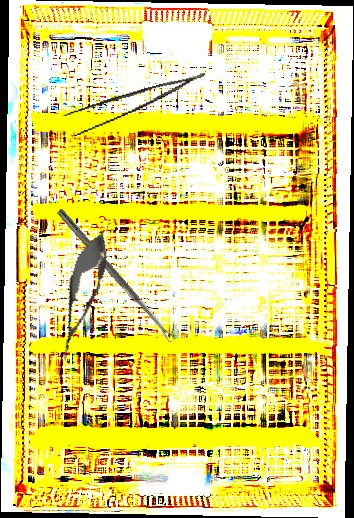Micro Scissor: (46, 224, 118, 368)
Surgical Spoon: (55, 208, 176, 344)
Tissue Forceps: (58, 72, 212, 139)
